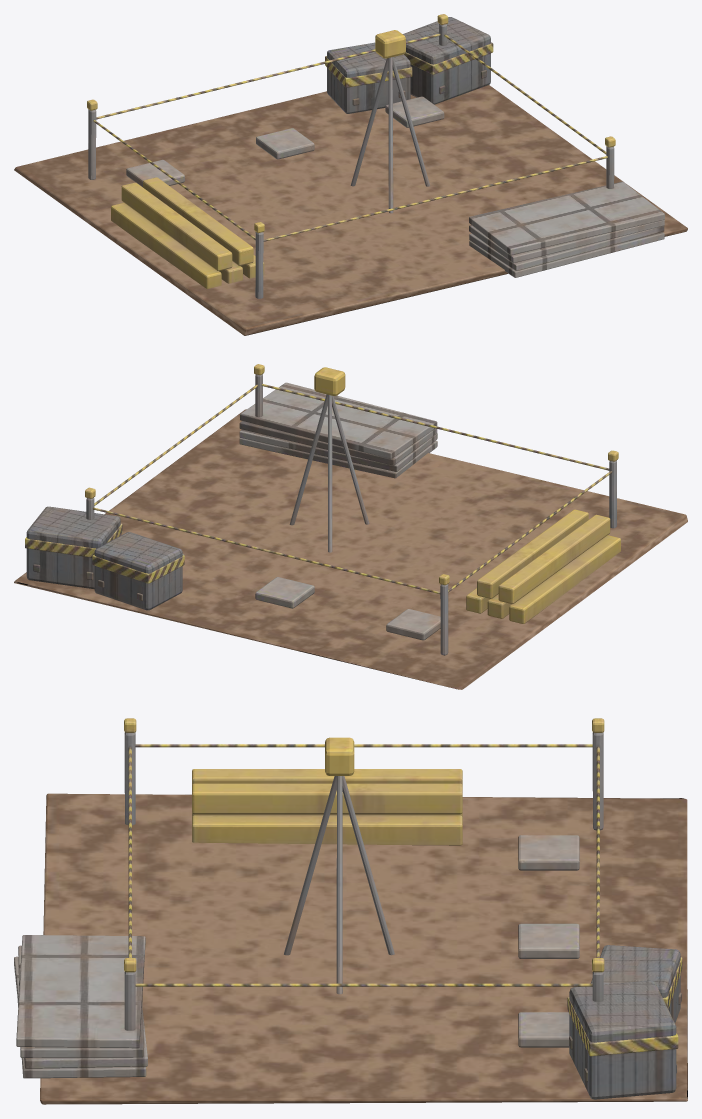
File: site_0.glb
The picture shows the model from 3 angles, top to bottom: view 1: azimuth 30°, elevation 25°; view 2: azimuth 150°, elevation 25°; view 3: azimuth 270°, elevation 25°; orthographic projection. The views are drawn at different scales.
Visible parts, largest first — view 1: site_0; view 2: site_0; view 3: site_0.
Boxes of the visible parts, x1=… form: site_0: x1=14, y1=14, x2=687, y2=335; site_0: x1=14, y1=364, x2=687, y2=689; site_0: x1=14, y1=718, x2=687, y2=1104.
Bounding box in the file's own units: 2.93 × 1.04 × 2.74.
Materials: 1 (1 with a texture image).
